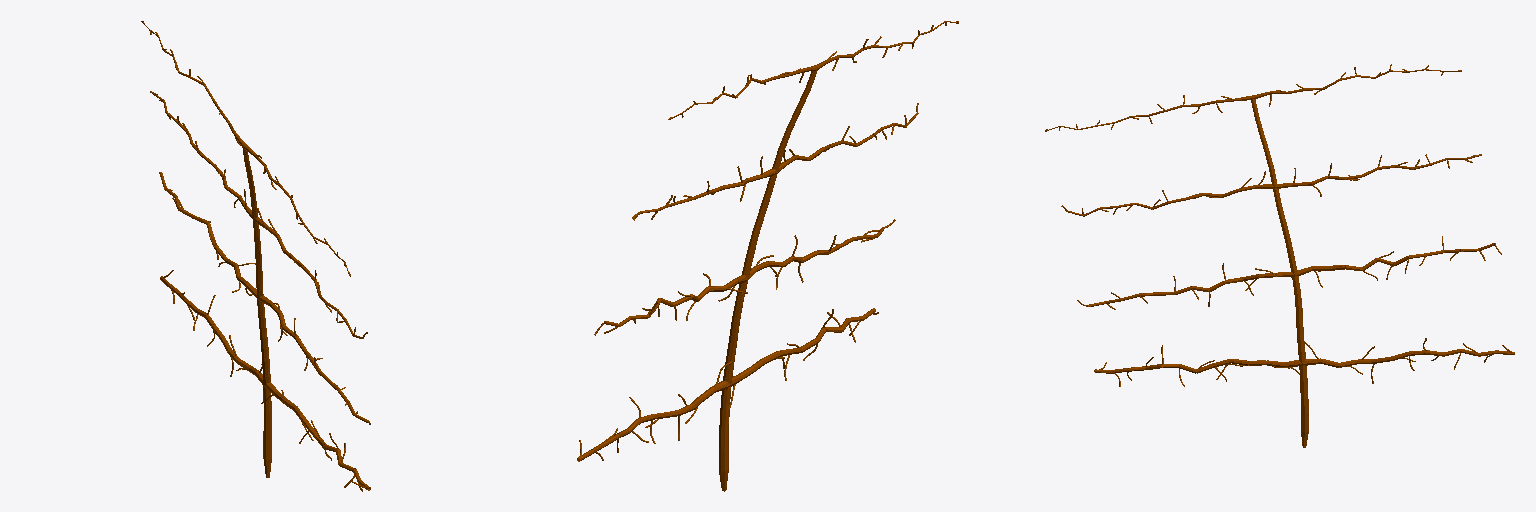
URDF robot description (robot):
<robot name="robot">

  <material name="blue">
  <color rgba="0 1 1 1"/>
  </material>

  <material name="green">
  <color rgba="0 .5 0 1"/>
  </material>

  <material name="red">
  <color rgba="1 0.6 0 1"/>
  </material>

  <link name="appletree">
      <visual>
        <origin rpy="0 0 0" xyz="0 0 0"/>
        <geometry>
  				<mesh filename="test_tree.obj" scale="0.1 0.1 0.1"/>
        </geometry>
         <material name="white">
          <color rgba=".58 .3 0 1"/>
        </material>
      </visual>
      <collision concave="yes">
        <origin rpy="0 0 0" xyz="0 0 0"/>
       <geometry>
  				<mesh filename="test_tree.obj" scale="0.1 0.1 0.1"/>
        </geometry>
      </collision>
    </link>


<link name="world"/>


  <joint name="tree_joint" type="fixed">
    <parent link="world"/>
    <child link="appletree"/>
    <origin xyz="0 0 0" rpy="0 0 1.5" />
    <axis xyz="0 0 0" />
  </joint>

  </robot>

--- Facts derived from the render (not from the file) ---
3 views of the same robot in one strip: view 1: azimuth 30°, elevation 25°; view 2: azimuth 150°, elevation 25°; view 3: azimuth 270°, elevation 25° (orthographic).
Model robot with 2 links and 1 joints (1 fixed), rooted at world, posed all joints at 0.
Links seen in each view (by area): view 1: appletree; view 2: appletree; view 3: appletree.
Link boxes in pixels (x1,y1,x2,y2): appletree: [141, 21, 370, 491]; appletree: [577, 21, 958, 491]; appletree: [1045, 64, 1514, 447].
Bounding box of the posed robot: 0.4458 × 2.53 × 2.16 m (x, y, z).
Meshes: 1 distinct files referenced, 1 mesh visuals loaded (1 OBJ).